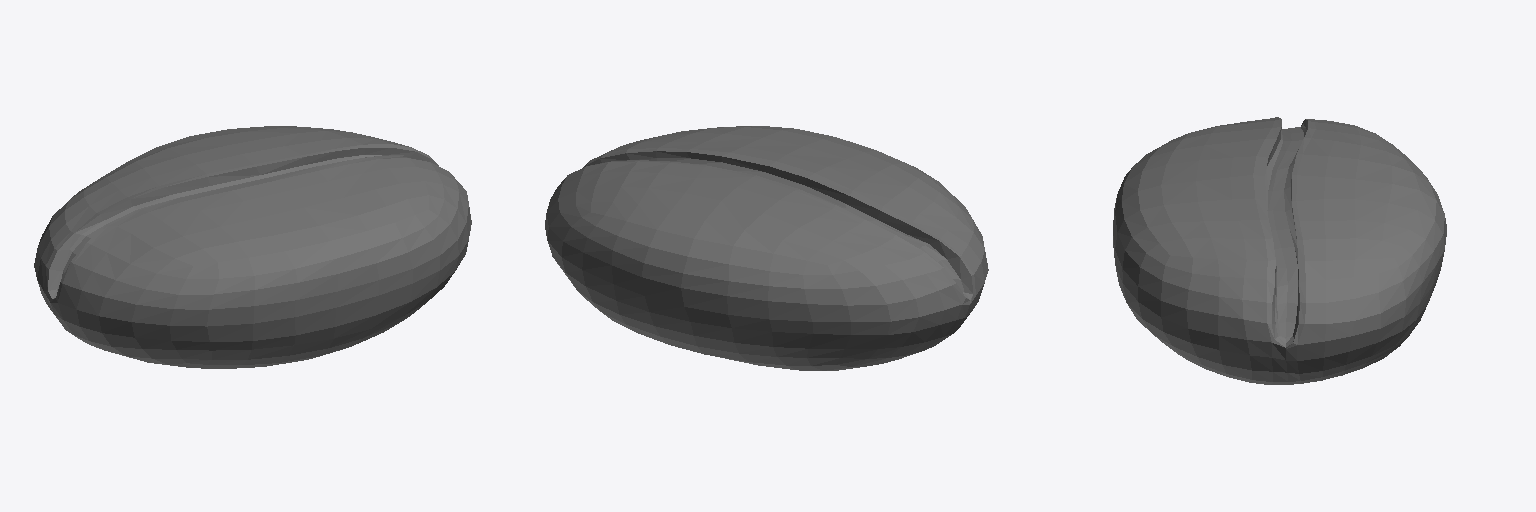
Rendered from Coffeebean.obj.
3 views of the same model, side by side, from view 1: azimuth 30°, elevation 25°; view 2: azimuth 150°, elevation 25°; view 3: azimuth 270°, elevation 25° (orthographic).
Parts seen in each view (by area): view 1: Mesh; view 2: Mesh; view 3: Mesh.
Part boxes in pixels (x1,y1,x2,y2): Mesh: (34, 126, 471, 368); Mesh: (545, 126, 988, 370); Mesh: (1113, 117, 1446, 384).
Bounding box in the file's own units: 0.8579 × 0.337 × 0.6101.